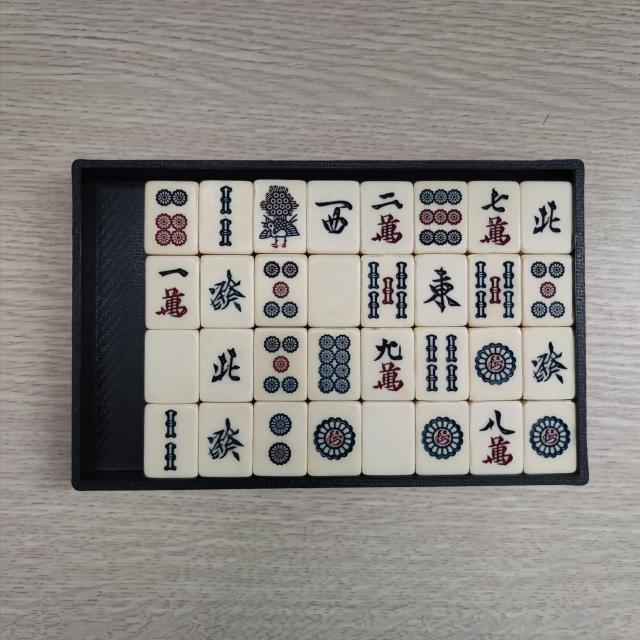hdg: (203, 408, 247, 474), (204, 260, 250, 323), (527, 332, 570, 395)
hdw: (153, 334, 196, 398), (368, 406, 409, 469), (315, 260, 356, 322)
hwe: (419, 260, 462, 322)
hwn: (205, 334, 248, 396), (528, 187, 568, 247)
hww: (314, 186, 357, 248)
sb1: (258, 182, 304, 251)
sb2: (150, 408, 194, 476), (204, 184, 248, 250)
sb4: (422, 330, 466, 396)
sb5: (366, 258, 411, 324), (472, 258, 518, 322)
sc1: (153, 262, 194, 324)
sc2: (366, 186, 409, 249)
sc7: (473, 186, 515, 250)
sc8: (474, 406, 518, 469)
sc9: (366, 333, 408, 396)
sd1: (314, 406, 359, 472), (473, 332, 519, 395), (422, 406, 468, 469), (527, 405, 572, 469)
sd2: (259, 406, 302, 472)
sd5: (260, 332, 304, 396), (261, 258, 304, 322), (526, 259, 568, 322)
sd6: (152, 185, 193, 249)
sd8: (314, 331, 357, 396)
sd9: (419, 186, 464, 248)
